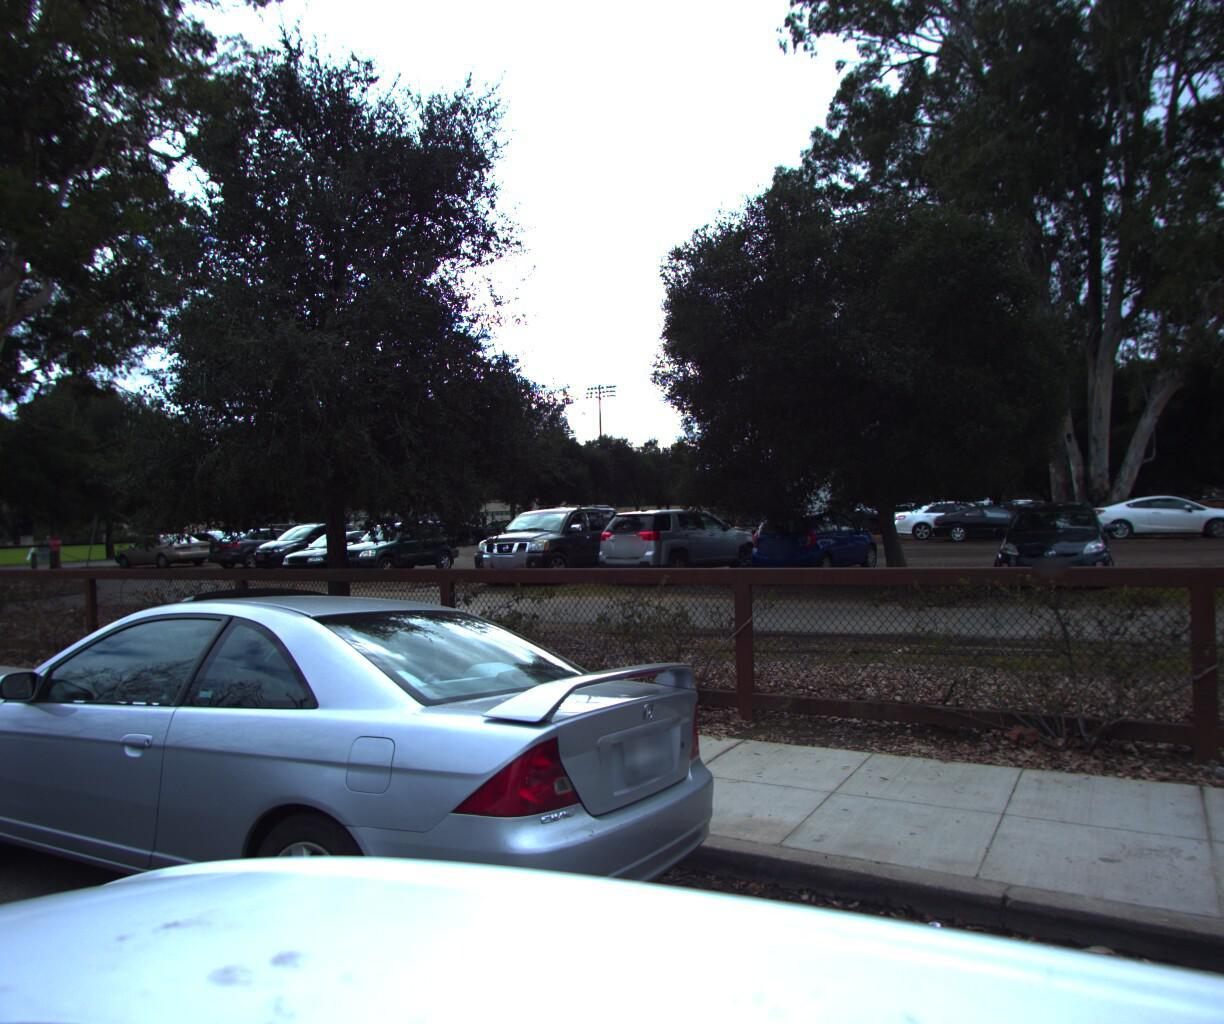car: (0, 574, 748, 1024)
